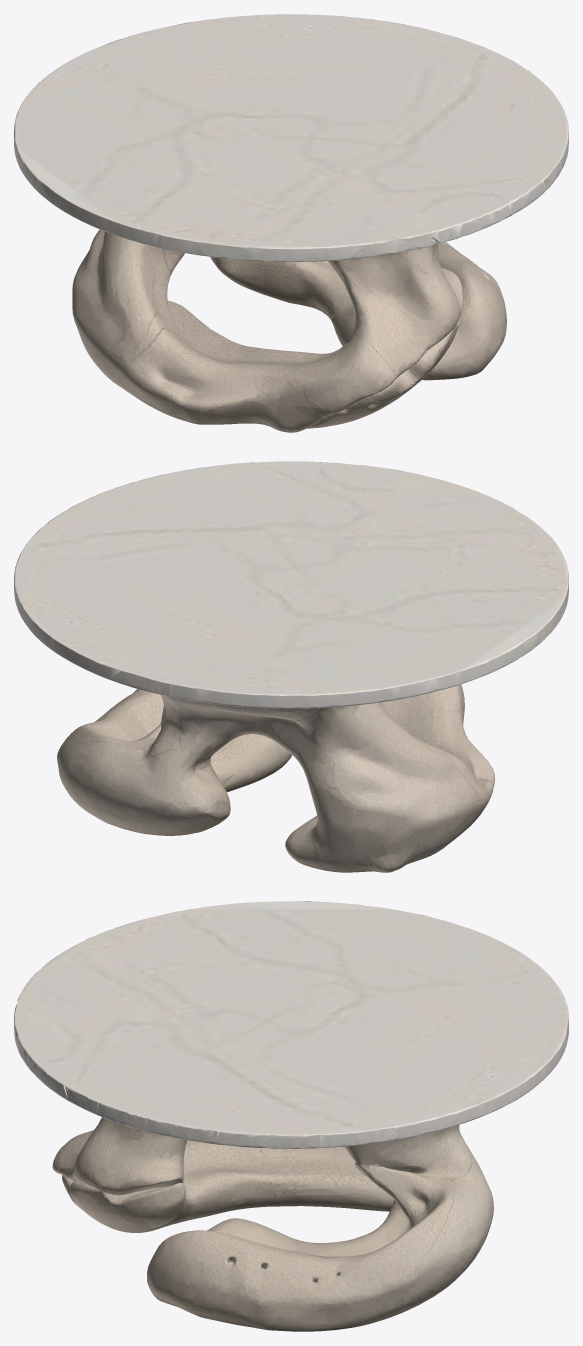
File: coffee-table-marble-sculptural.glb
3 renders of one model, top to bottom at view 1: azimuth 30°, elevation 25°; view 2: azimuth 150°, elevation 25°; view 3: azimuth 270°, elevation 25°, orthographic.
Visible parts, largest first — view 1: mesh_node; view 2: mesh_node; view 3: mesh_node.
Part boxes in pixels (x1,y1,x2,y2): mesh_node: (14,14,568,432); mesh_node: (14,461,568,872); mesh_node: (14,901,568,1331).
Size of the model in its own units: 1.9 by 0.8407 by 1.9.
1 material, 1 textured.
